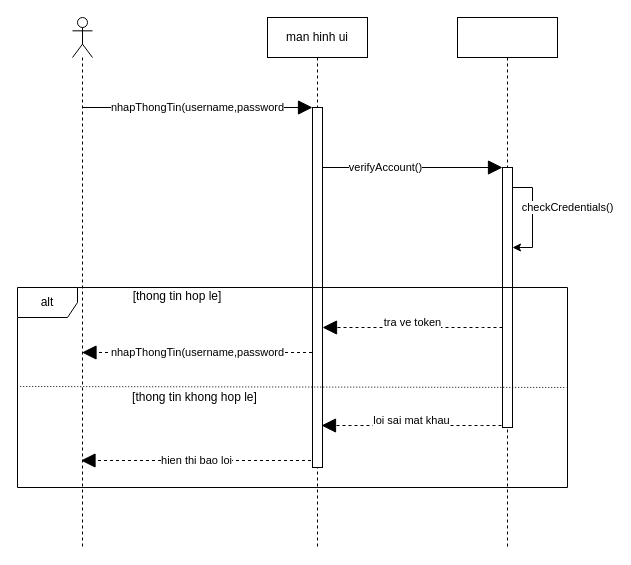
Some shapes in this 631 by 565 pixel diagram are drawn without their labels. The box of each missing label's shape, as (x1, y1, x2, y2) in pixels:
authserver: (456, 16, 558, 548)
khach hang: (72, 16, 92, 548)
